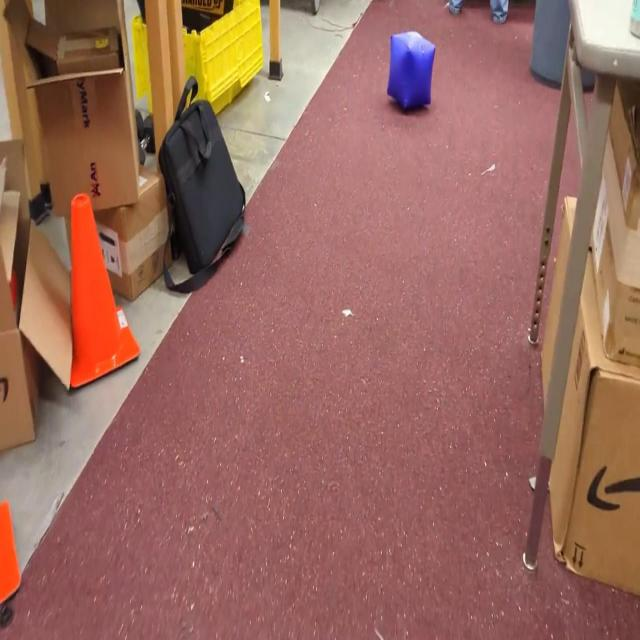frc_cube: (387, 28, 437, 114)
